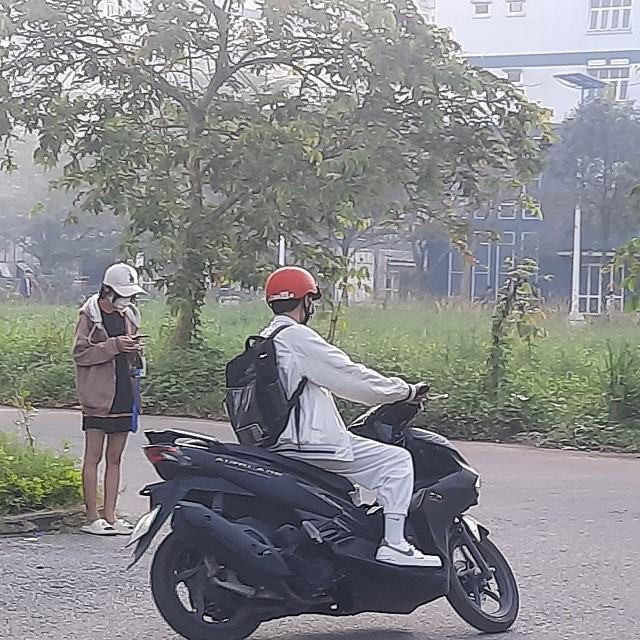Helmet: (264, 263, 320, 317)
